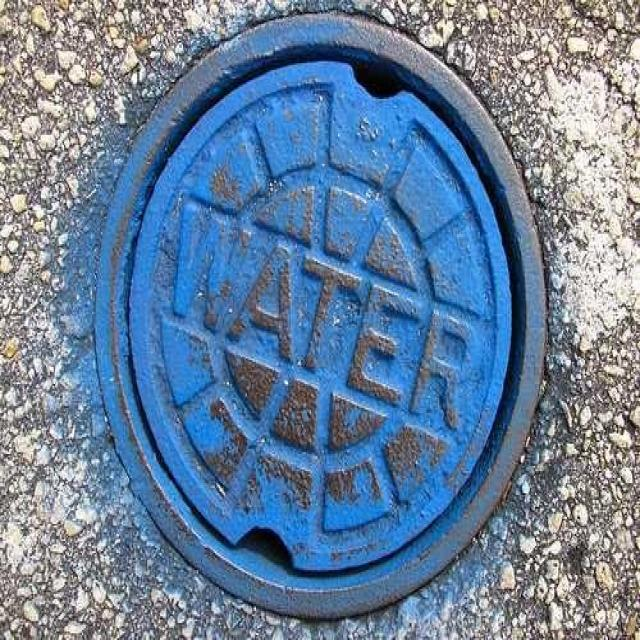manhole: (91, 15, 545, 618)
